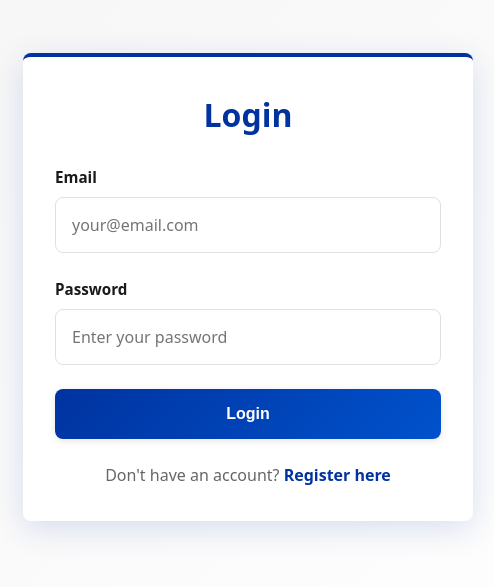
Test: Login Page Component › displays error message on login failure
Type "test@example.com" into the field with placeholder "your@email.com" at (248, 225), box [55,197,441,253]
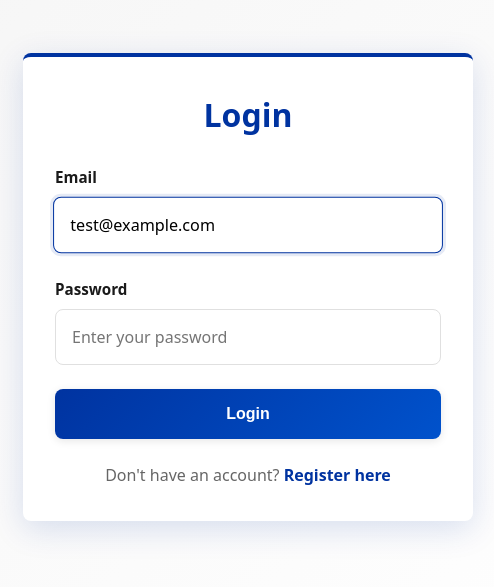
Type "wrongpassword" into the password field with placeholder "Enter your password" at (248, 337), box [55,309,441,365]
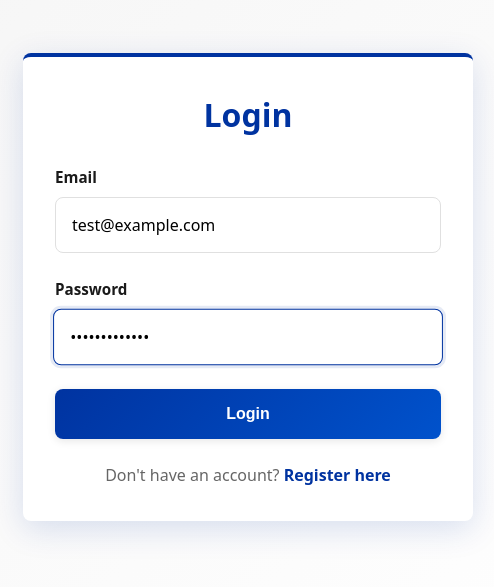
Click the button "Login" at (248, 414), box [55,389,441,439]
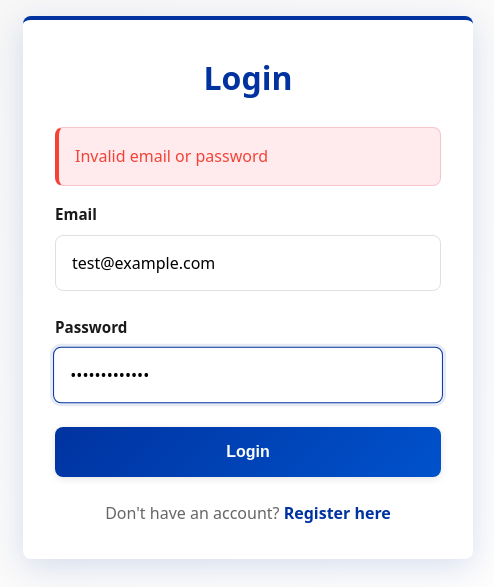
Result: the text "Invalid email or password" is shown at [55,127,441,186]
